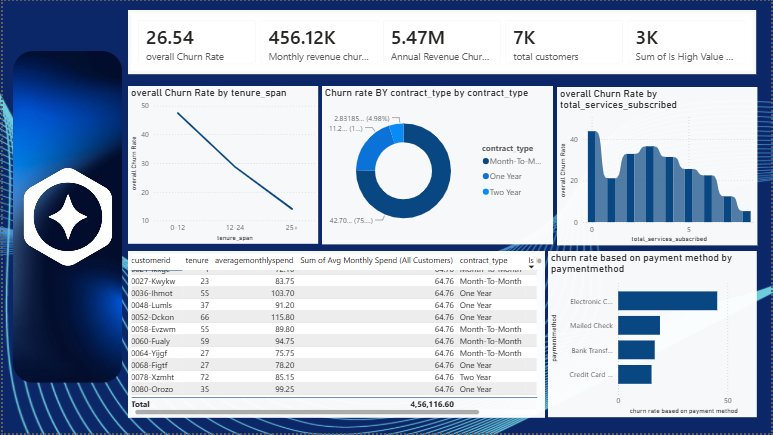

This screenshot's page, from the dashboard's own definition file:
{"tool":"powerbi","page":{"name":"Page 1","canvas":[1280,720],"ordinal":0},"visuals":[{"type":"donutChart","fields":{"Category":["public features_table.contract_type"],"Y":["public features_table.Churn rate BY contract_type"]},"box":[531.5,142.3,384.6,263.8],"z":0},{"type":"barChart","fields":{"Y":["public features_table.churn rate based on payment method"],"Category":["public features_table.paymentmethod"]},"box":[908.2,416.5,347.6,277.1],"z":1000},{"type":"lineChart","fields":{"Y":["public features_table.overall Churn Rate"],"Category":["public features_table.tenure_span"]},"box":[208.9,142.2,316.7,263.3],"z":2000},{"type":"tableEx","fields":{"Values":["public features_table.customerid","public features_table.tenure","public features_table.averagemonthlyspend","Sum(public features_table.Avg Monthly Spend (All Customers))","public features_table.contract_type","public features_table.Is High Value At Risk"]},"box":[208.8,416.2,695,277.5],"z":2002},{"type":"cardVisual","fields":{"Data":["public features_table.overall Churn Rate","public features_table.Monthly revenue churned","public features_table.Annual Revenue Churned","public features_table.total customers","Sum(public features_table.Is High Value At Risk)"]},"box":[208.3,15,1046.7,106.7],"z":2008},{"type":"ribbonChart","fields":{"Category":["public features_table.total_services_subscribed"],"Y":["public features_table.overall Churn Rate"]},"box":[922.5,142.5,334.2,264.2],"z":2009},{"type":"image","box":[16.7,83.3,182.2,553.3],"z":2010}]}

Visuals, with their boxes in screenshot pixels (x1, y1, x2, y2), scaled from the page's 1280x720 canvas onto the 773x435 screenshot:
donutChart - public features_table.contract_type x public features_table.Churn rate BY contract_type: 321/86/553/245
barChart - public features_table.churn rate based on payment method x public features_table.paymentmethod: 548/252/758/419
lineChart - public features_table.overall Churn Rate x public features_table.tenure_span: 126/86/317/245
tableEx - public features_table.customerid x public features_table.tenure: 126/251/546/419
cardVisual - public features_table.overall Churn Rate x public features_table.Monthly revenue churned: 126/9/758/74
ribbonChart - public features_table.total_services_subscribed x public features_table.overall Churn Rate: 557/86/759/246
image: 10/50/120/385
